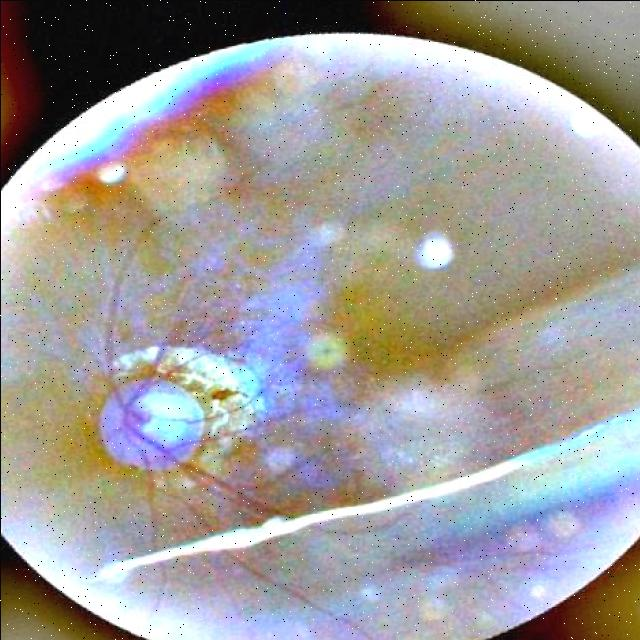Macula: (310, 339, 346, 372)
Nerves: (107, 215, 164, 393), (179, 461, 277, 515), (145, 466, 158, 549)
Optic Disk: (101, 383, 202, 468)
